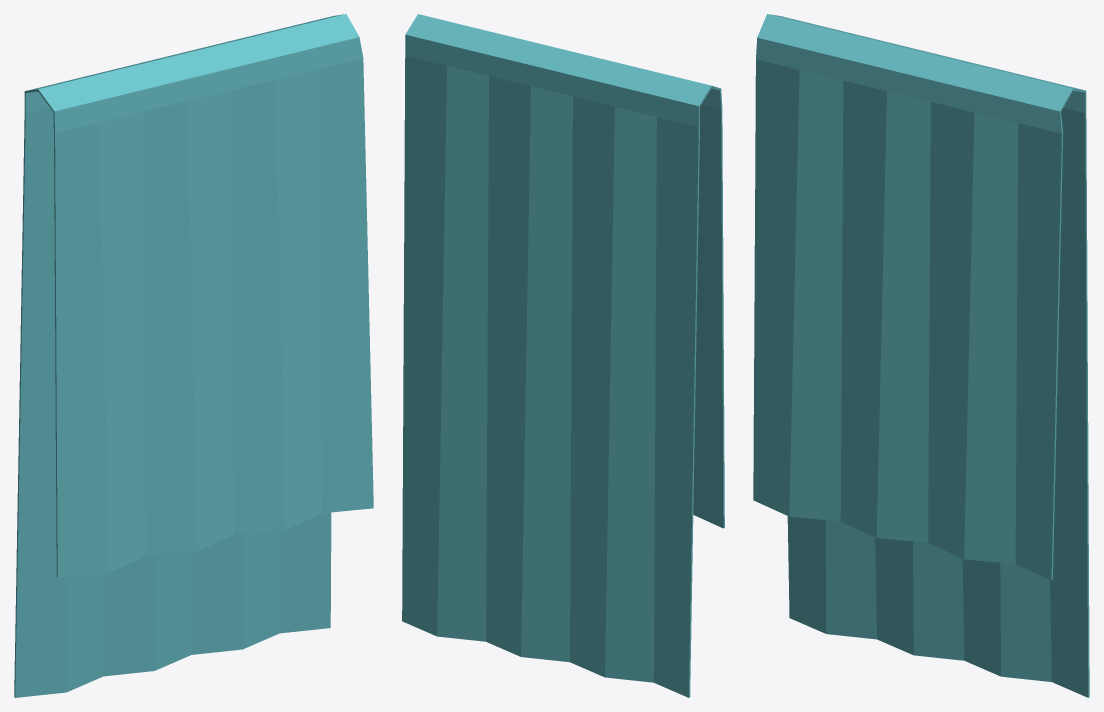
The model's file is cloth.fbx.
The picture shows the model from 3 angles, left to right: view 1: azimuth 30°, elevation 25°; view 2: azimuth 150°, elevation 25°; view 3: azimuth 330°, elevation 25°; orthographic projection. The views are drawn at different scales.
Visible parts, largest first — view 1: cloth; view 2: cloth; view 3: cloth.
Boxes of the visible parts, left/top/right/bottom form: cloth: left=14, top=14, right=373, bottom=697; cloth: left=402, top=14, right=724, bottom=697; cloth: left=753, top=14, right=1089, bottom=697.
Size of the model in its own units: 0.5673 by 1.09 by 0.153.
